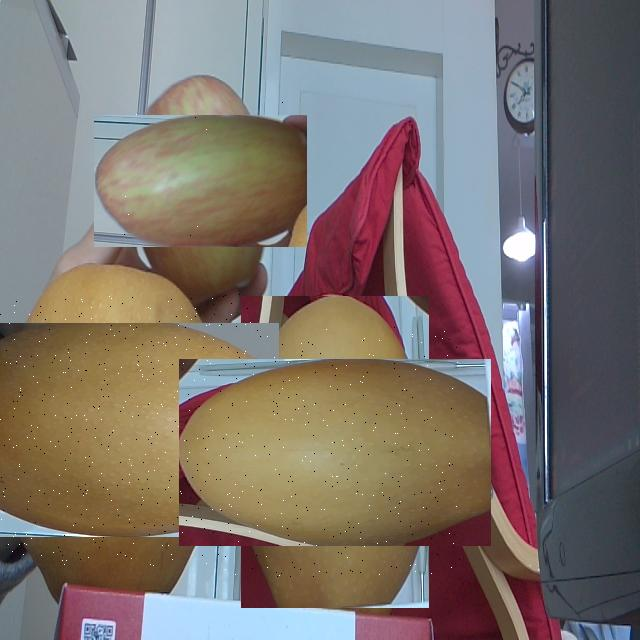apple: (114, 94, 287, 267)
pear: (0, 294, 251, 566), (210, 327, 460, 577)
